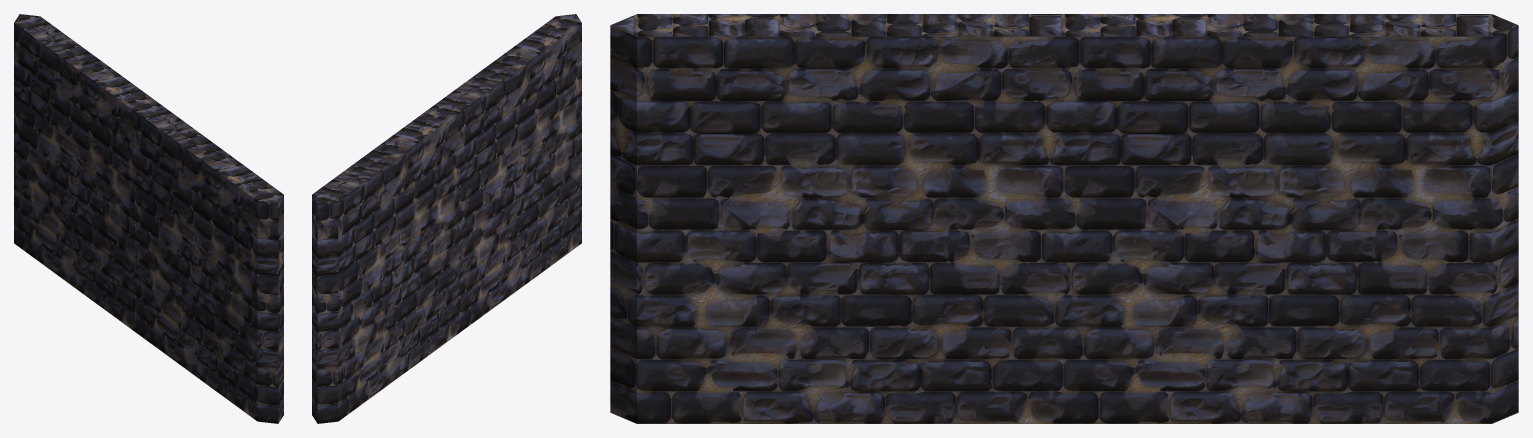
Rendered from room-end.glb.
3 views of the same model, side by side, from view 1: azimuth 30°, elevation 25°; view 2: azimuth 150°, elevation 25°; view 3: azimuth 270°, elevation 25° (orthographic). The views are drawn at different scales.
Visible parts, largest first — view 1: wall (×2); view 2: wall (×2); view 3: wall (×2).
Boxes of the visible parts, x1,y1,x2,y2 form: wall (×2): [14, 14, 283, 423]; wall (×2): [312, 14, 581, 423]; wall (×2): [610, 14, 1518, 423].
Bounding box in the file's own units: 0.1251 × 1 × 2.13.
Materials: 2 (2 with a texture image).
